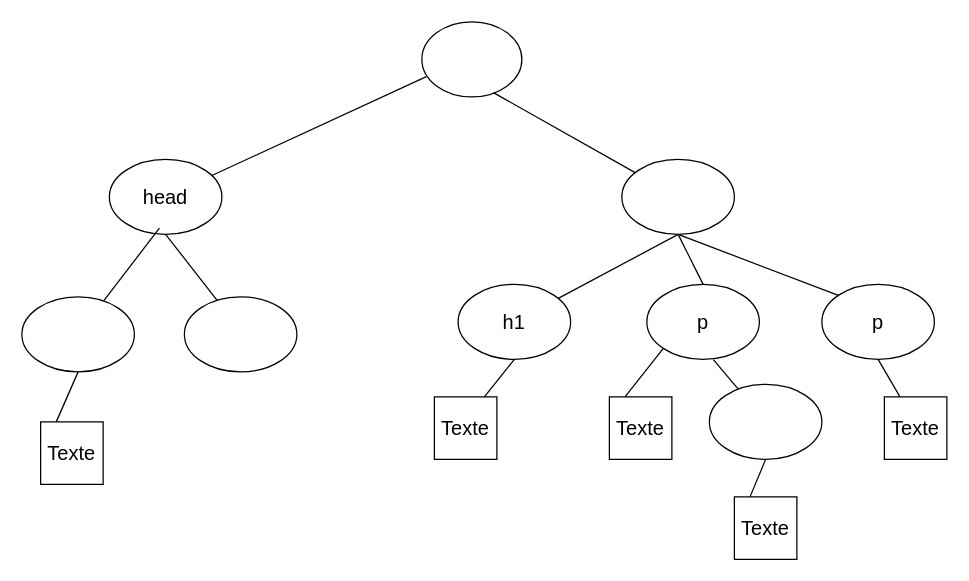
Some shapes in this 969 by 581 pixel diagram are drawn without their labels. Each missing label, with the centre of its shape:
"body" goes at [677,196].
"html" goes at [471,59].
"meta" goes at [240,334].
"span" goes at [765,421].
"title" goes at [77,334].
